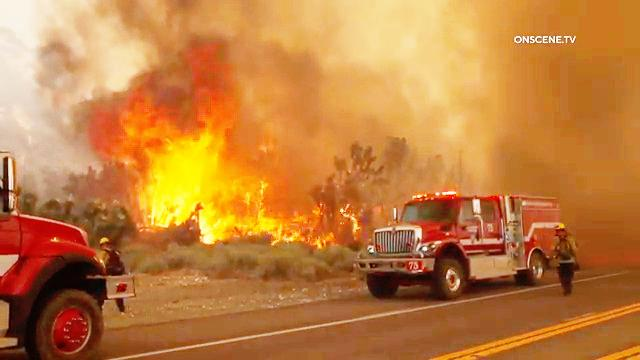fire: (96, 76, 250, 237), (230, 192, 325, 241)
smoke: (252, 15, 493, 116), (490, 106, 629, 187)
